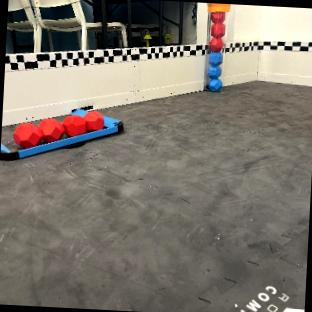Loader: (206, 3, 229, 91)
Parking-R: (0, 114, 120, 160)
V5_BLUE: (207, 51, 222, 91)
V5_RED: (13, 110, 105, 148), (210, 11, 225, 36), (209, 35, 222, 50)
